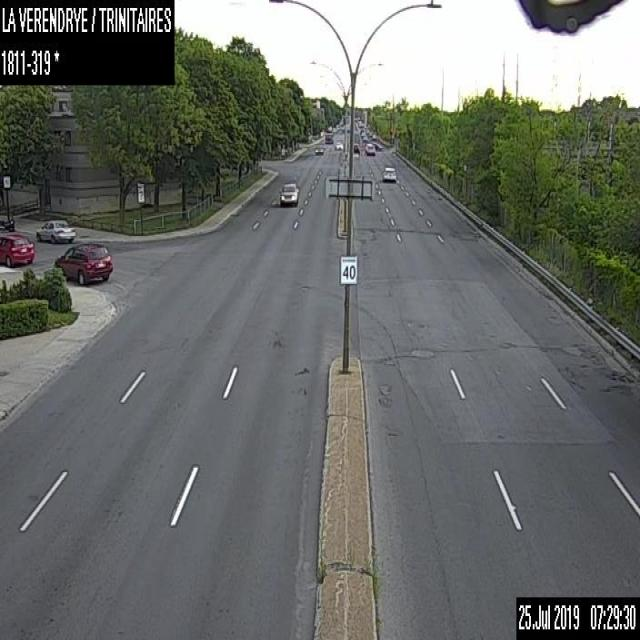vehicle: (53, 242, 113, 284), (0, 232, 33, 265), (35, 219, 75, 243), (279, 180, 298, 205), (0, 214, 14, 230), (381, 166, 395, 180), (364, 142, 375, 153), (324, 132, 334, 144), (314, 143, 324, 154), (353, 142, 359, 154), (335, 140, 342, 149), (370, 132, 376, 139), (362, 134, 367, 140)
